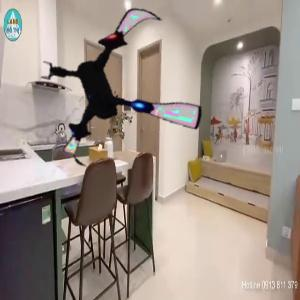drone: (37, 4, 212, 179)
